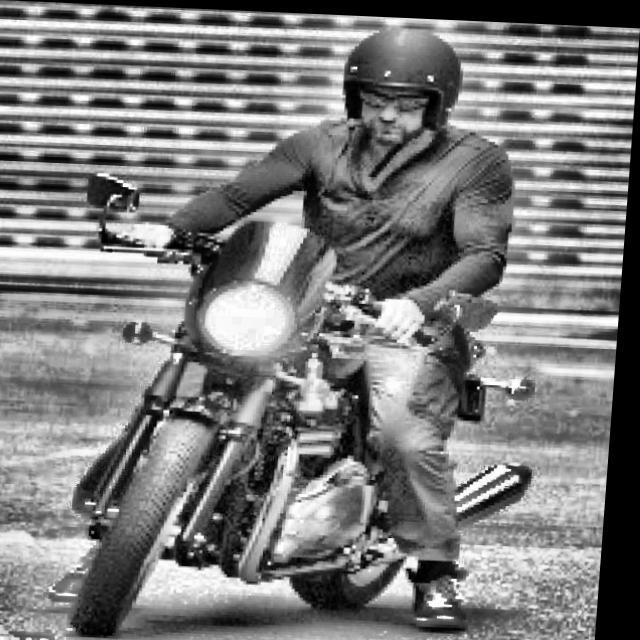motorcycle: (38, 165, 556, 640)
